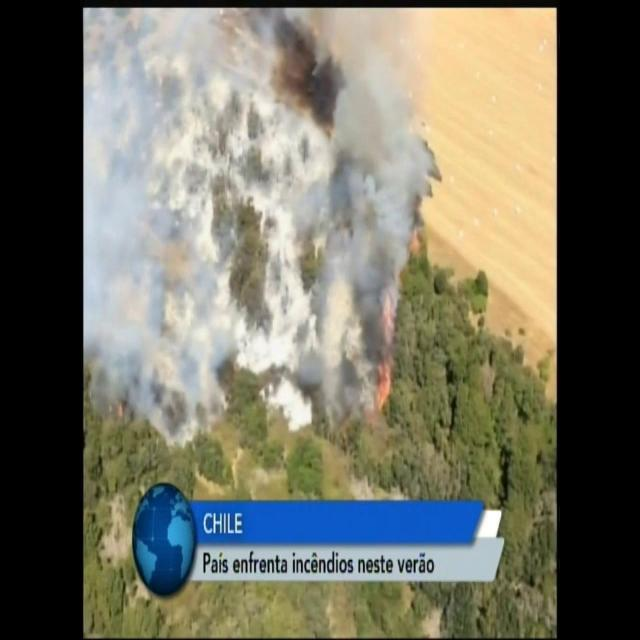Fire: (367, 357, 393, 423)
